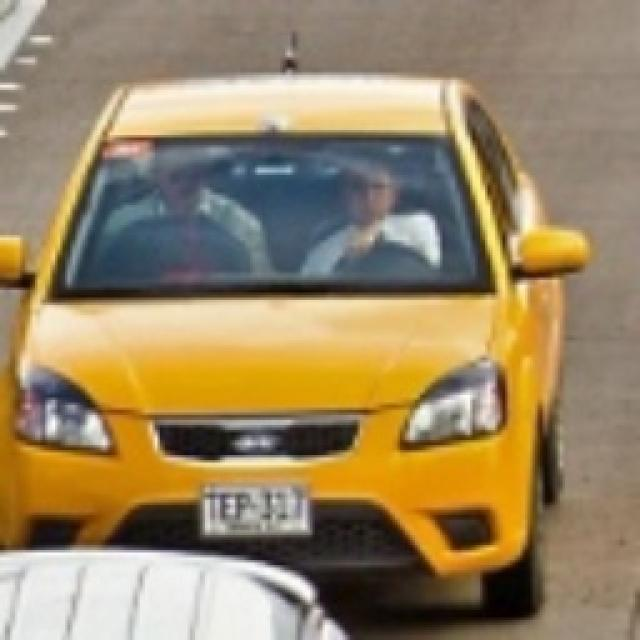windshield: (47, 127, 498, 316)
